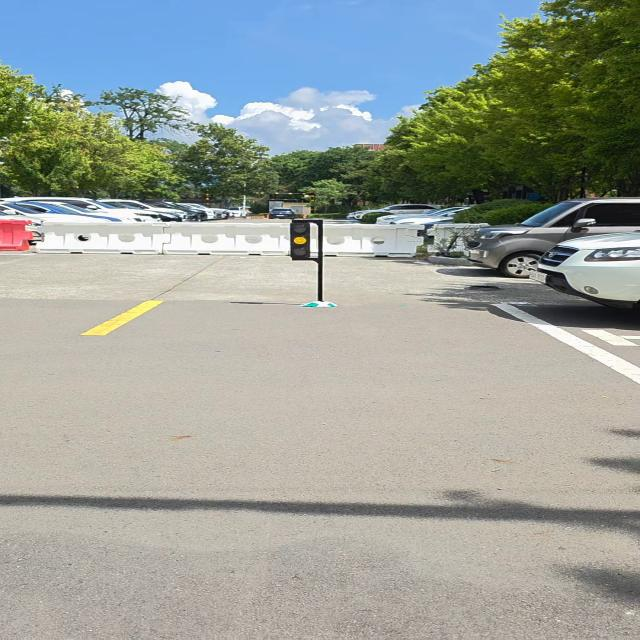yellow: (289, 222, 312, 259)
